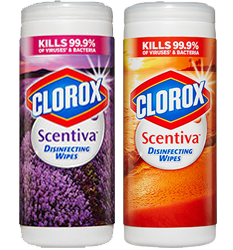Wipes: (121, 1, 219, 249), (19, 1, 116, 248)
